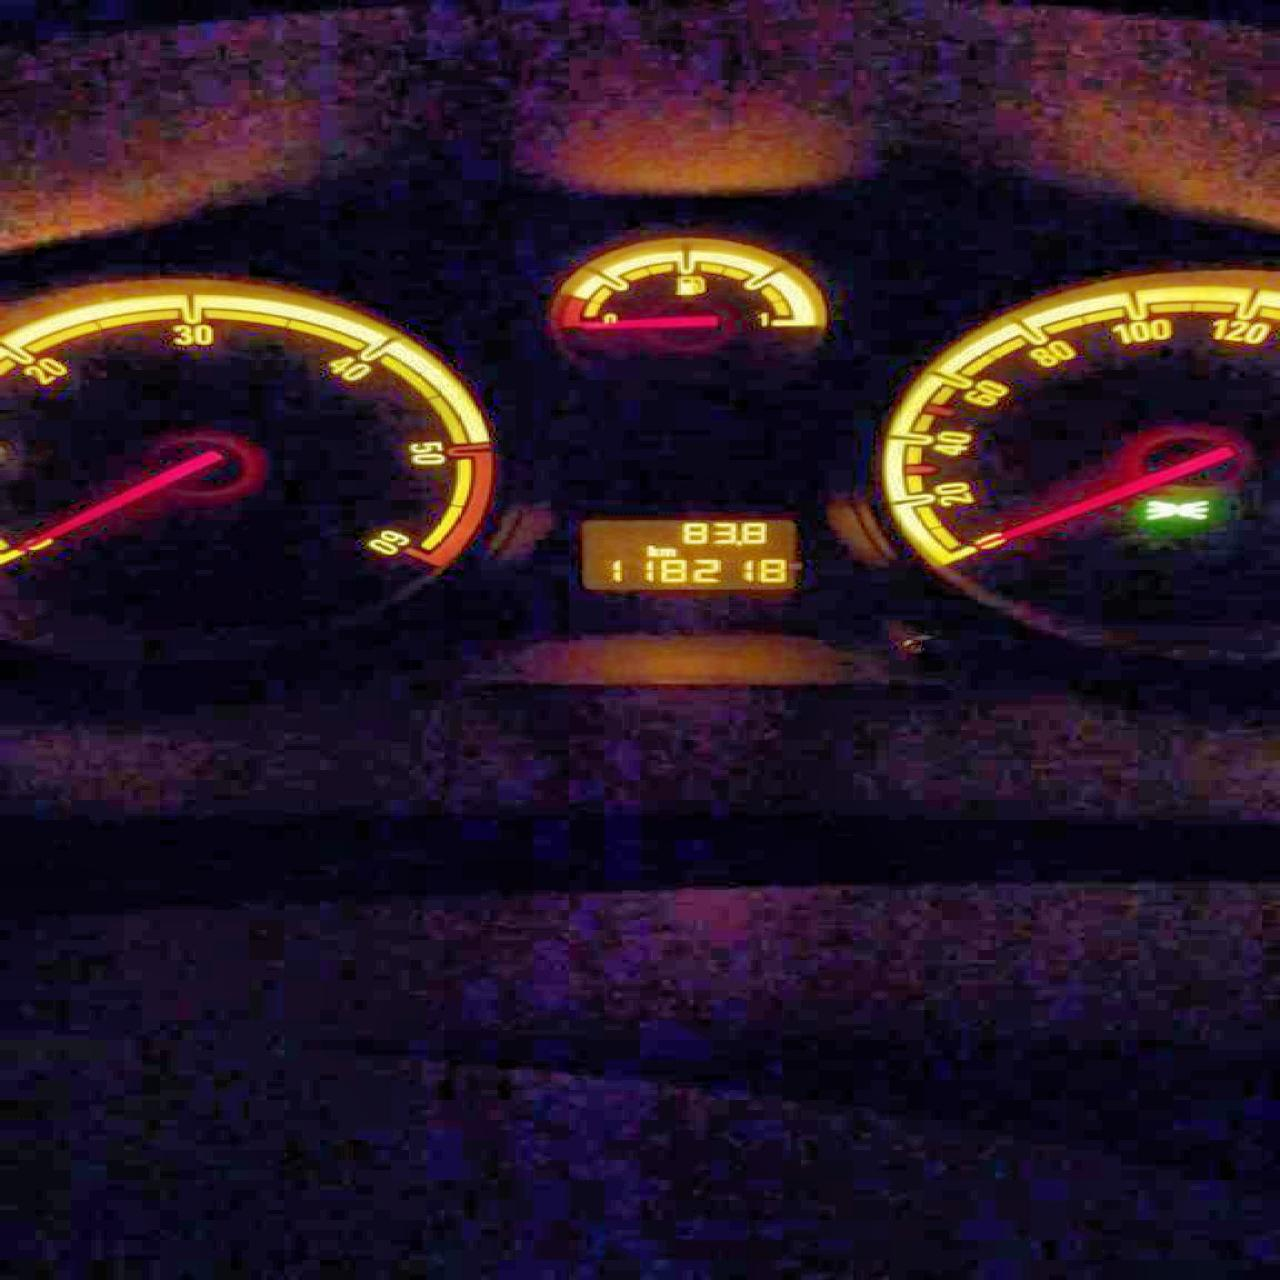-: (734, 539, 740, 545)
1: (605, 558, 622, 581), (737, 558, 754, 581), (638, 559, 653, 581)
2: (689, 558, 720, 583)
3: (709, 520, 735, 545)
8: (655, 558, 687, 583), (754, 558, 784, 583), (737, 520, 767, 544), (678, 520, 707, 544)
X: (642, 544, 658, 557), (658, 546, 675, 556)
odometer: (568, 515, 804, 594)
